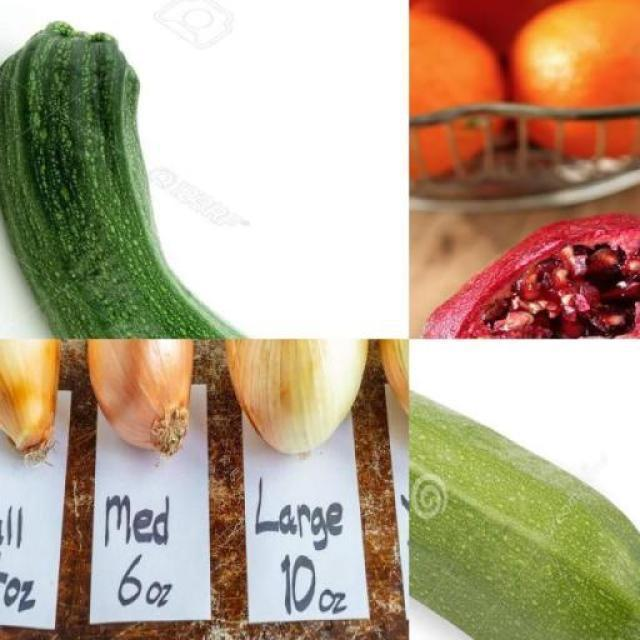Zucchini: (0, 28, 389, 340), (409, 339, 640, 640)
